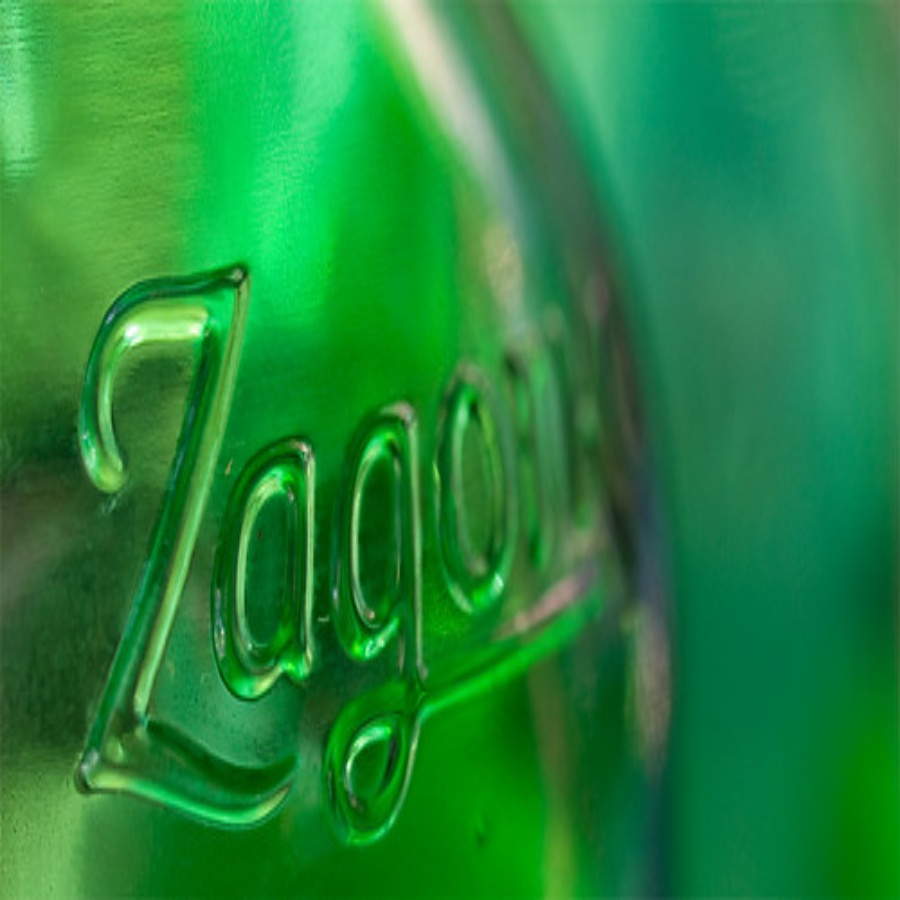beer: (1, 26, 861, 881)
